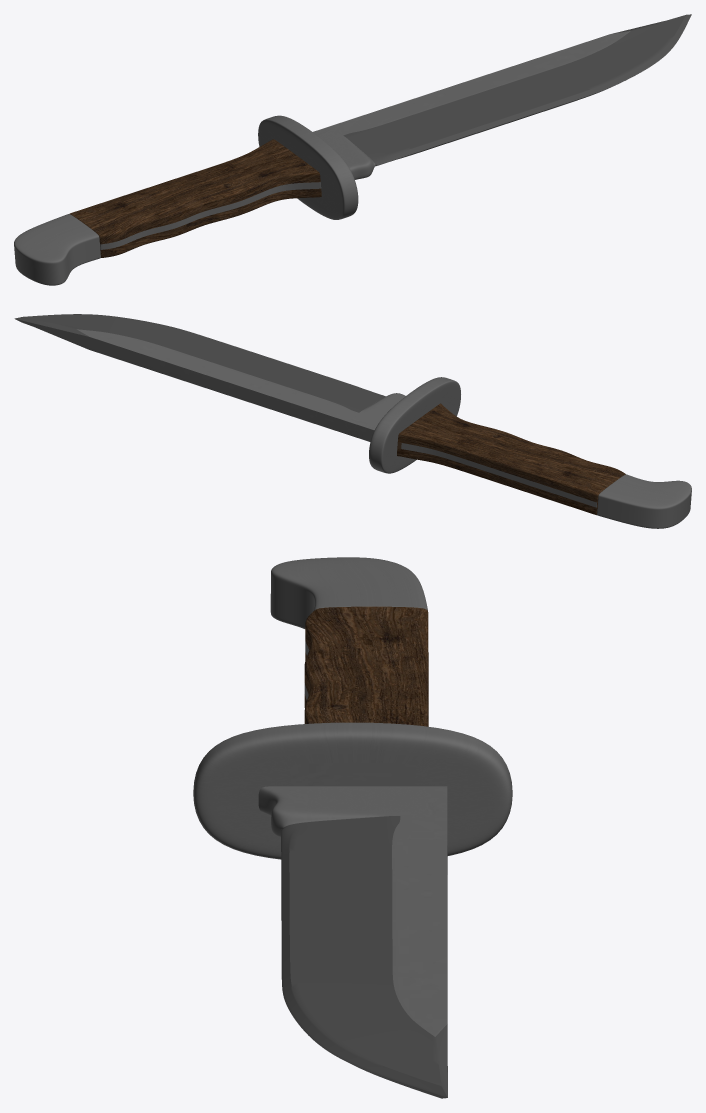
File: cuchillo.glb
3 views of the same model, one above another, from view 1: azimuth 30°, elevation 25°; view 2: azimuth 150°, elevation 25°; view 3: azimuth 270°, elevation 25° (orthographic). The views are drawn at different scales.
Visible parts, largest first — view 1: Plane.002, Plane, Plane.001; view 2: Plane.002, Plane, Plane.001; view 3: Plane.002, Plane.001, Plane.
Boxes of the visible parts, x1=… form: Plane.002: x1=313, y1=14, x2=691, y2=179; Plane: x1=14, y1=139, x2=321, y2=285; Plane.001: x1=258, y1=115, x2=358, y2=219; Plane.002: x1=14, y1=314, x2=405, y2=441; Plane: x1=397, y1=403, x2=691, y2=528; Plane.001: x1=369, y1=377, x2=460, y2=473; Plane.002: x1=258, y1=786, x2=447, y2=1098; Plane.001: x1=193, y1=722, x2=512, y2=859; Plane: x1=270, y1=557, x2=428, y2=726.
Size of what is drawn, in the model's own units: 4.78 by 0.4837 by 1.03.
Materials: 3 (2 with a texture image).
